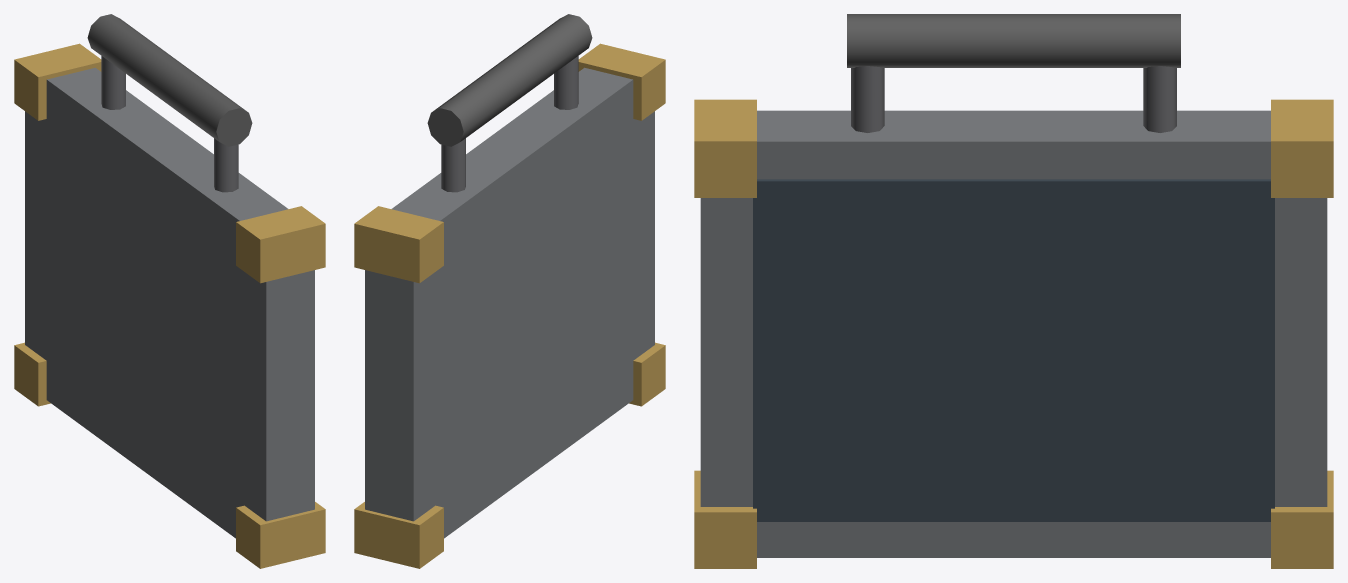
The model's file is build_kit.glb.
The picture shows the model from 3 angles, left to right: view 1: azimuth 30°, elevation 25°; view 2: azimuth 150°, elevation 25°; view 3: azimuth 270°, elevation 25°; orthographic projection. The views are drawn at different scales.
Parts seen in each view (by area): view 1: build_kit; view 2: build_kit; view 3: build_kit.
Boxes of the visible parts, x1,y1,x2,y2 form: build_kit: (14,14,325,568); build_kit: (354,14,665,568); build_kit: (694,14,1333,568).
Size of the model in its own units: 0.047 by 0.2804 by 0.306.
